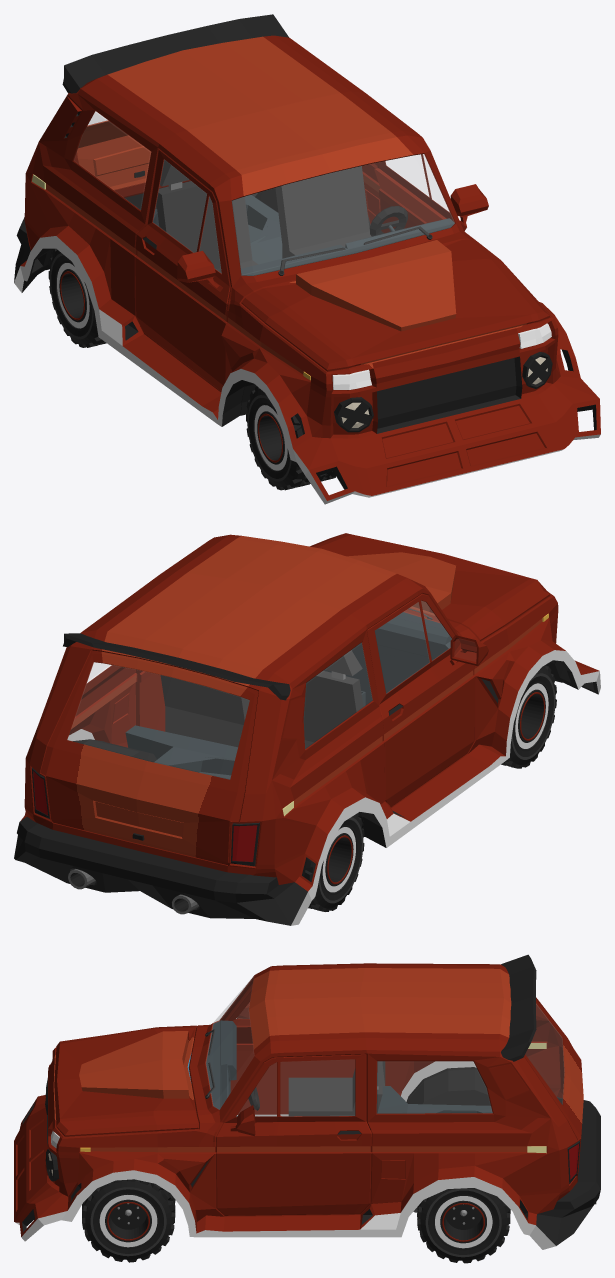
File: car3.glb
3 views of the same model, one above another, from view 1: azimuth 30°, elevation 25°; view 2: azimuth 150°, elevation 25°; view 3: azimuth 270°, elevation 25° (orthographic). The views are drawn at different scales.
Parts seen in each view (by area): view 1: Body.012, hood.004, WindowFront.004, Seats.004, Door.008, WondowRight.004, WindowDoor.009, Wheel.019, Trunk.004, Wheel.017, Door.009, Panel.008 (+7 smaller); view 2: Body.012, Trunk.004, WindowBack.004, Door.008, hood.004, Seats.004, Panel.008, WondowRight.004, WindowDoor.009, Floor.014, Wheel.017, Wheel.019 (+5 smaller); view 3: Body.012, Door.009, hood.004, Wheel.019, Wheel.017, WondowRight.004, WindowDoor.010, Door.008, WindowFront.004, Seats.004, Floor.012, Trunk.004 (+4 smaller).
Part boxes in pixels (left/top/right/bottom): Body.012: left=14, top=14, right=600, bottom=504; hood.004: left=241, top=239, right=549, bottom=371; WindowFront.004: left=232, top=154, right=454, bottom=275; Seats.004: left=156, top=159, right=371, bottom=273; Door.008: left=135, top=149, right=230, bottom=391; WondowRight.004: left=74, top=112, right=150, bottom=209; WindowDoor.009: left=153, top=160, right=220, bottom=272; Wheel.019: left=246, top=386, right=335, bottom=490; Trunk.004: left=74, top=120, right=151, bottom=190; Wheel.017: left=48, top=248, right=106, bottom=347; Door.009: left=374, top=154, right=453, bottom=233; Panel.008: left=240, top=218, right=454, bottom=275; Body.012: left=14, top=534, right=600, bottom=925; Trunk.004: left=40, top=650, right=258, bottom=864; WindowBack.004: left=68, top=662, right=248, bottom=778; Door.008: left=367, top=593, right=475, bottom=806; hood.004: left=309, top=533, right=549, bottom=641; Seats.004: left=160, top=650, right=363, bottom=748; Panel.008: left=323, top=612, right=451, bottom=705; WondowRight.004: left=304, top=643, right=372, bottom=748; WindowDoor.009: left=375, top=601, right=451, bottom=693; Floor.014: left=125, top=725, right=237, bottom=779; Wheel.017: left=304, top=813, right=364, bottom=911; Wheel.019: left=501, top=665, right=556, bottom=768; Body.012: left=14, top=954, right=600, bottom=1249; Door.009: left=216, top=1054, right=371, bottom=1215; hood.004: left=54, top=1025, right=198, bottom=1136; Wheel.019: left=82, top=1179, right=175, bottom=1262; Wheel.017: left=417, top=1188, right=510, bottom=1263; WondowRight.004: left=377, top=1062, right=491, bottom=1112; WindowDoor.010: left=237, top=1060, right=354, bottom=1116; Door.008: left=228, top=989, right=355, bottom=1114; WindowFront.004: left=206, top=976, right=253, bottom=1108; Seats.004: left=288, top=1061, right=385, bottom=1116; Floor.012: left=175, top=1069, right=490, bottom=1200; Trunk.004: left=524, top=999, right=583, bottom=1171.
Bounding box in the file's own units: 7.44 × 5.84 × 14.62.
4 materials, 1 textured.
